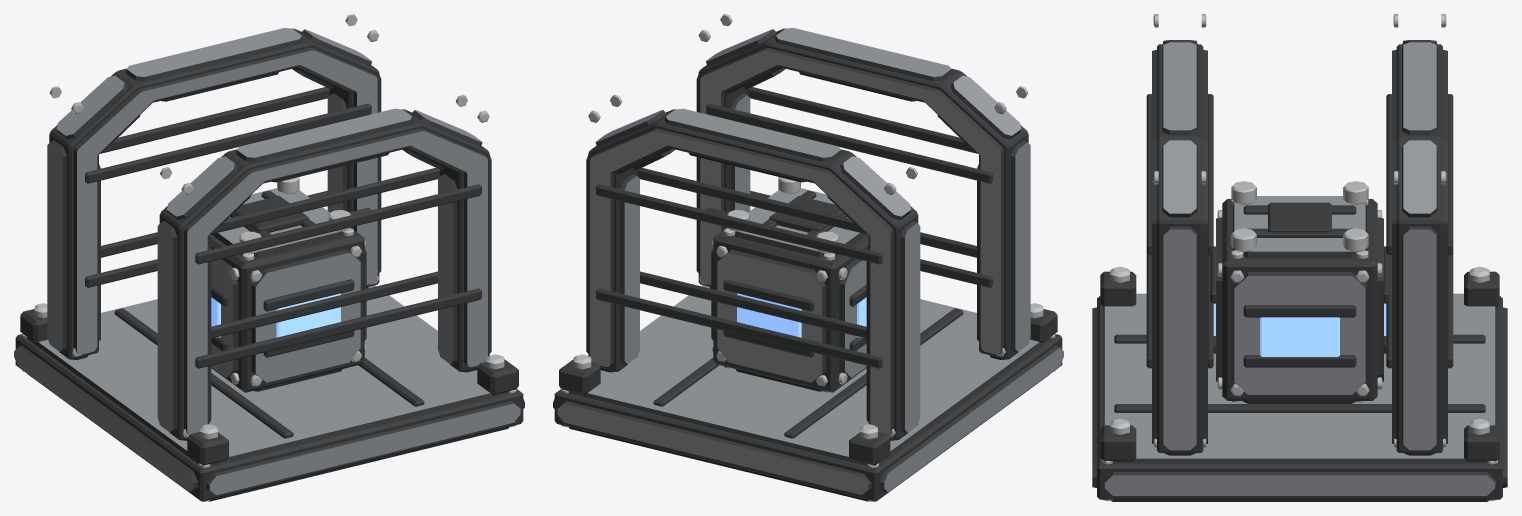
File: R4X_ModuleDurabilityBooster.fbx
3 views of the same model, side by side, from view 1: azimuth 30°, elevation 25°; view 2: azimuth 150°, elevation 25°; view 3: azimuth 270°, elevation 25° (orthographic). The views are drawn at different scales.
Parts seen in each view (by area): view 1: R4X_ModuleDurabilityBooster_Body; view 2: R4X_ModuleDurabilityBooster_Body; view 3: R4X_ModuleDurabilityBooster_Body.
Boxes of the visible parts, box(x1,y1,x2,y2) form: R4X_ModuleDurabilityBooster_Body: box(14, 14, 524, 501); R4X_ModuleDurabilityBooster_Body: box(553, 14, 1063, 501); R4X_ModuleDurabilityBooster_Body: box(1092, 14, 1507, 501).
Bounding box in the file's own units: 0.52 × 0.46 × 0.52.
